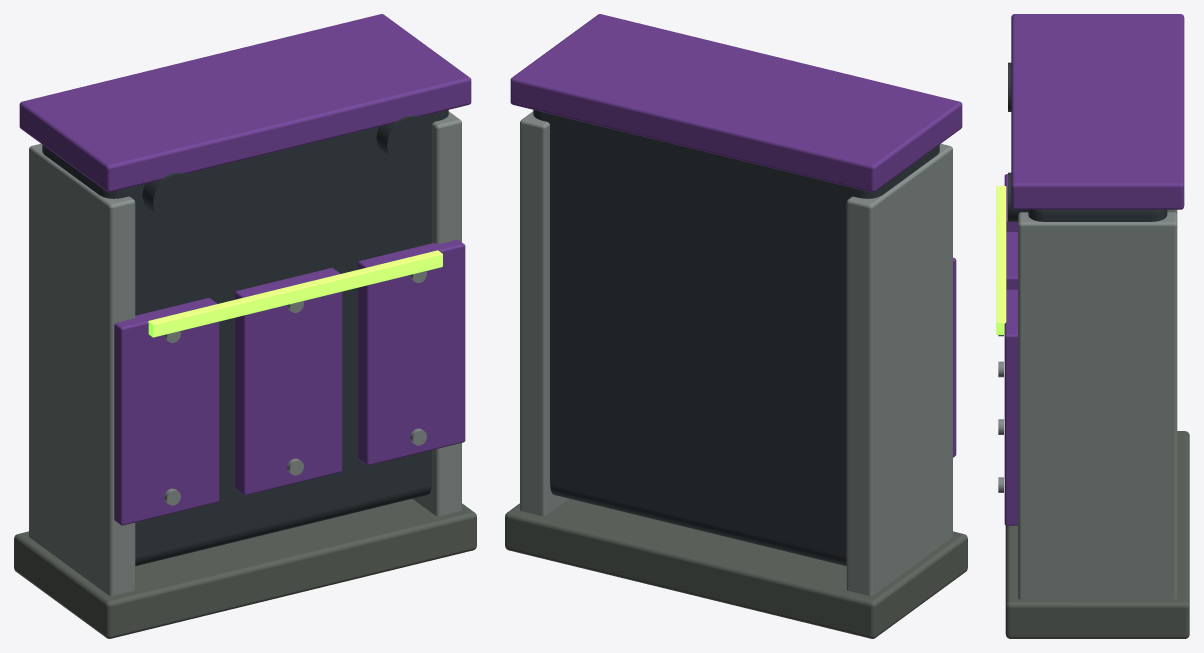
File: wall_l05.glb
3 views of the same model, side by side, from view 1: azimuth 30°, elevation 25°; view 2: azimuth 150°, elevation 25°; view 3: azimuth 270°, elevation 25° (orthographic). The views are drawn at different scales.
Parts seen in each view (by area): view 1: separate_face_plate (×3), armoured_barrier, reinforced_terminal (×2), tier_cap, continuous_footing, powered_safety_rail, sensor_housing (×2); view 2: armoured_barrier, reinforced_terminal (×2), tier_cap, continuous_footing, separate_face_plate; view 3: reinforced_terminal, tier_cap, continuous_footing, separate_face_plate (×2), armoured_barrier, powered_safety_rail, sensor_housing.
Boxes of the visible parts, x1=… form: separate_face_plate (×3): x1=114, y1=239, x2=465, y2=525; armoured_barrier: x1=42, y1=110, x2=448, y2=566; reinforced_terminal (×2): x1=29, y1=111, x2=461, y2=595; tier_cap: x1=19, y1=14, x2=471, y2=192; continuous_footing: x1=14, y1=499, x2=476, y2=638; powered_safety_rail: x1=148, y1=250, x2=442, y2=337; sensor_housing (×2): x1=142, y1=115, x2=430, y2=220; armoured_barrier: x1=533, y1=110, x2=939, y2=566; reinforced_terminal (×2): x1=520, y1=111, x2=952, y2=595; tier_cap: x1=510, y1=14, x2=962, y2=192; continuous_footing: x1=505, y1=499, x2=967, y2=638; separate_face_plate: x1=953, y1=257, x2=956, y2=457; reinforced_terminal: x1=1018, y1=212, x2=1177, y2=599; tier_cap: x1=1011, y1=14, x2=1184, y2=209; continuous_footing: x1=1005, y1=431, x2=1189, y2=638; separate_face_plate (×2): x1=1004, y1=232, x2=1017, y2=525; armoured_barrier: x1=1028, y1=209, x2=1167, y2=221; powered_safety_rail: x1=996, y1=186, x2=1006, y2=334; sensor_housing: x1=1008, y1=172, x2=1028, y2=221.
Size of the model in its own units: 1.84 by 2.24 by 0.8625.
